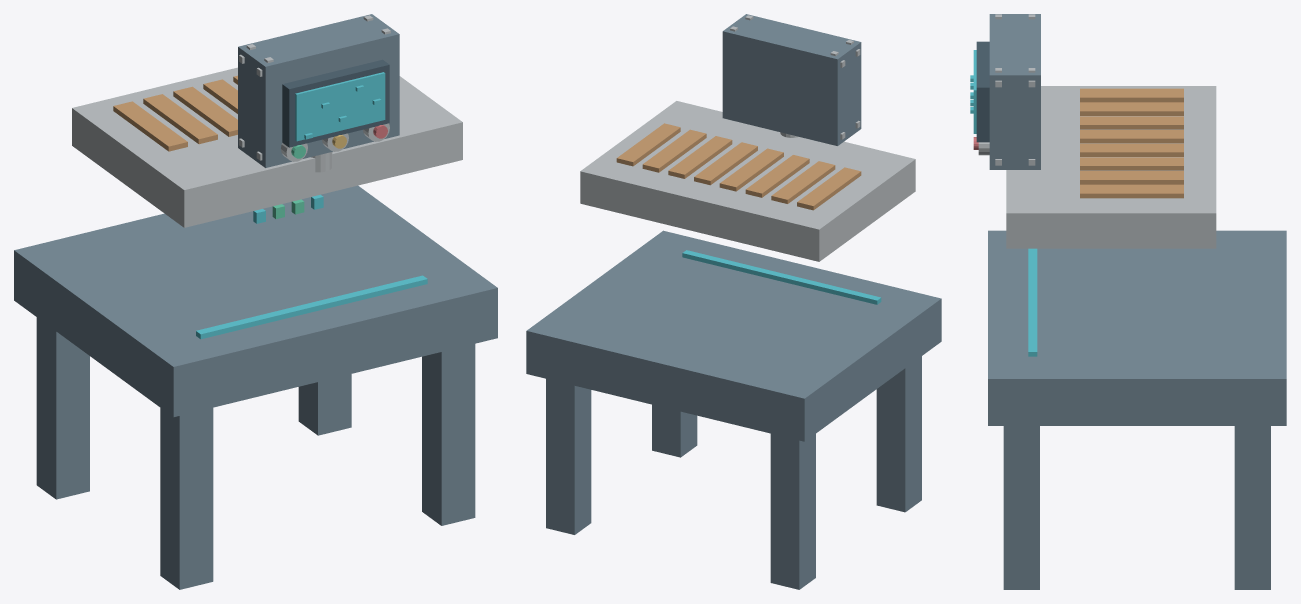
Rendered from 10_L78_InterconnectSurfaceConditionScanner.glb.
3 renders of one model, left to right at view 1: azimuth 30°, elevation 25°; view 2: azimuth 150°, elevation 25°; view 3: azimuth 270°, elevation 25°, orthographic. The views are drawn at different scales.
Visible parts, largest first — view 1: InterconnectSurfaceConditionScanner_Node_0000, InterconnectSurfaceConditionScanner_Node_0032, InterconnectSurfaceConditionScanner_Node_0006, InterconnectSurfaceConditionScanner_Node_0002, InterconnectSurfaceConditionScanner_Node_0004, InterconnectSurfaceConditionScanner_Node_0001, InterconnectSurfaceConditionScanner_Node_0016, InterconnectSurfaceConditionScanner_Node_0015, InterconnectSurfaceConditionScanner_Node_0003, InterconnectSurfaceConditionScanner_Node_0005, InterconnectSurfaceConditionScanner_Node_0034, InterconnectSurfaceConditionScanner_Node_0033 (+2 smaller); view 2: InterconnectSurfaceConditionScanner_Node_0000, InterconnectSurfaceConditionScanner_Node_0032, InterconnectSurfaceConditionScanner_Node_0006, InterconnectSurfaceConditionScanner_Node_0001, InterconnectSurfaceConditionScanner_Node_0003, InterconnectSurfaceConditionScanner_Node_0002, InterconnectSurfaceConditionScanner_Node_0004, InterconnectSurfaceConditionScanner_Node_0005, InterconnectSurfaceConditionScanner_Node_0039, InterconnectSurfaceConditionScanner_Node_0036, InterconnectSurfaceConditionScanner_Node_0033, InterconnectSurfaceConditionScanner_Node_0035 (+4 smaller); view 3: InterconnectSurfaceConditionScanner_Node_0000, InterconnectSurfaceConditionScanner_Node_0032, InterconnectSurfaceConditionScanner_Node_0006, InterconnectSurfaceConditionScanner_Node_0003, InterconnectSurfaceConditionScanner_Node_0004, InterconnectSurfaceConditionScanner_Node_0033, InterconnectSurfaceConditionScanner_Node_0040, InterconnectSurfaceConditionScanner_Node_0034, InterconnectSurfaceConditionScanner_Node_0035, InterconnectSurfaceConditionScanner_Node_0036, InterconnectSurfaceConditionScanner_Node_0037, InterconnectSurfaceConditionScanner_Node_0038 (+3 smaller).
Part boxes in pixels (left/top/right/bottom): InterconnectSurfaceConditionScanner_Node_0000: left=14, top=185, right=497, bottom=417; InterconnectSurfaceConditionScanner_Node_0032: left=72, top=67, right=462, bottom=227; InterconnectSurfaceConditionScanner_Node_0006: left=238, top=14, right=399, bottom=167; InterconnectSurfaceConditionScanner_Node_0002: left=160, top=407, right=213, bottom=589; InterconnectSurfaceConditionScanner_Node_0004: left=422, top=344, right=475, bottom=525; InterconnectSurfaceConditionScanner_Node_0001: left=36, top=317, right=89, bottom=499; InterconnectSurfaceConditionScanner_Node_0016: left=295, top=72, right=385, bottom=141; InterconnectSurfaceConditionScanner_Node_0015: left=282, top=59, right=389, bottom=147; InterconnectSurfaceConditionScanner_Node_0003: left=298, top=374, right=351, bottom=435; InterconnectSurfaceConditionScanner_Node_0005: left=196, top=275, right=427, bottom=339; InterconnectSurfaceConditionScanner_Node_0034: left=143, top=94, right=217, bottom=144; InterconnectSurfaceConditionScanner_Node_0033: left=113, top=101, right=187, bottom=151; InterconnectSurfaceConditionScanner_Node_0000: left=526, top=230, right=941, bottom=441; InterconnectSurfaceConditionScanner_Node_0032: left=580, top=101, right=915, bottom=261; InterconnectSurfaceConditionScanner_Node_0006: left=722, top=14, right=861, bottom=145; InterconnectSurfaceConditionScanner_Node_0001: left=770, top=433, right=815, bottom=589; InterconnectSurfaceConditionScanner_Node_0003: left=546, top=379, right=591, bottom=534; InterconnectSurfaceConditionScanner_Node_0002: left=876, top=356, right=921, bottom=512; InterconnectSurfaceConditionScanner_Node_0004: left=652, top=404, right=697, bottom=457; InterconnectSurfaceConditionScanner_Node_0005: left=682, top=250, right=881, bottom=304; InterconnectSurfaceConditionScanner_Node_0039: left=642, top=129, right=706, bottom=172; InterconnectSurfaceConditionScanner_Node_0036: left=719, top=148, right=783, bottom=191; InterconnectSurfaceConditionScanner_Node_0033: left=797, top=167, right=861, bottom=210; InterconnectSurfaceConditionScanner_Node_0035: left=745, top=155, right=809, bottom=197; InterconnectSurfaceConditionScanner_Node_0000: left=988, top=230, right=1286, bottom=425; InterconnectSurfaceConditionScanner_Node_0032: left=1006, top=86, right=1216, bottom=248; InterconnectSurfaceConditionScanner_Node_0006: left=989, top=14, right=1040, bottom=169; InterconnectSurfaceConditionScanner_Node_0003: left=1234, top=426, right=1270, bottom=589; InterconnectSurfaceConditionScanner_Node_0004: left=1003, top=426, right=1039, bottom=589; InterconnectSurfaceConditionScanner_Node_0033: left=1080, top=88, right=1183, bottom=102; InterconnectSurfaceConditionScanner_Node_0040: left=1080, top=184, right=1183, bottom=198; InterconnectSurfaceConditionScanner_Node_0034: left=1080, top=102, right=1183, bottom=115; InterconnectSurfaceConditionScanner_Node_0035: left=1080, top=116, right=1183, bottom=129; InterconnectSurfaceConditionScanner_Node_0036: left=1080, top=130, right=1183, bottom=143; InterconnectSurfaceConditionScanner_Node_0037: left=1080, top=143, right=1183, bottom=156; InterconnectSurfaceConditionScanner_Node_0038: left=1080, top=157, right=1183, bottom=170.
Bounding box in the file's own units: 1.35 × 2.04 × 1.22.
